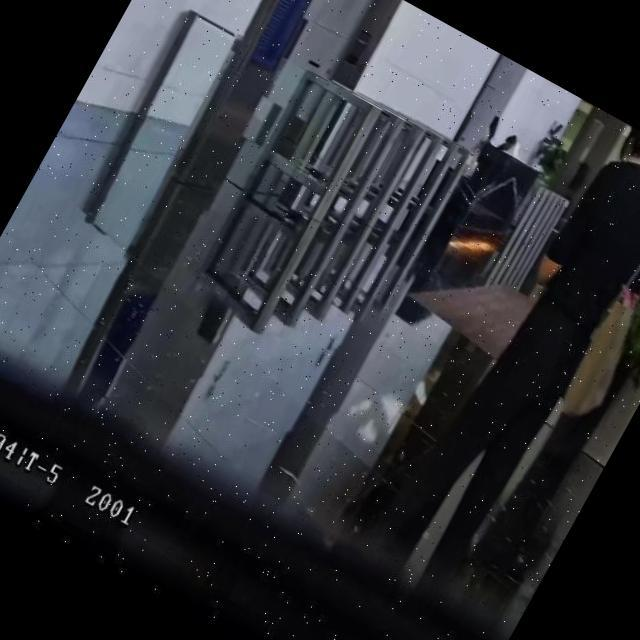person: (371, 115, 640, 605), (496, 132, 519, 158)
